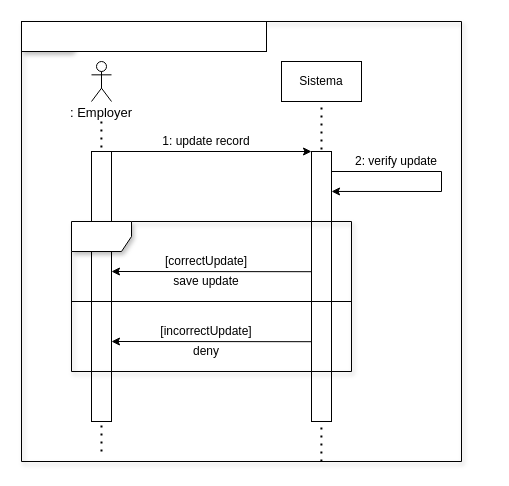
Some shapes in this 509 by 486 pixel diagram are drawn without their labels. Here are the shapes that lost their labels. From the top down, the centre of each, then its label:
At (143,36): "interaction Update Record".
At (212,297): "alt".
